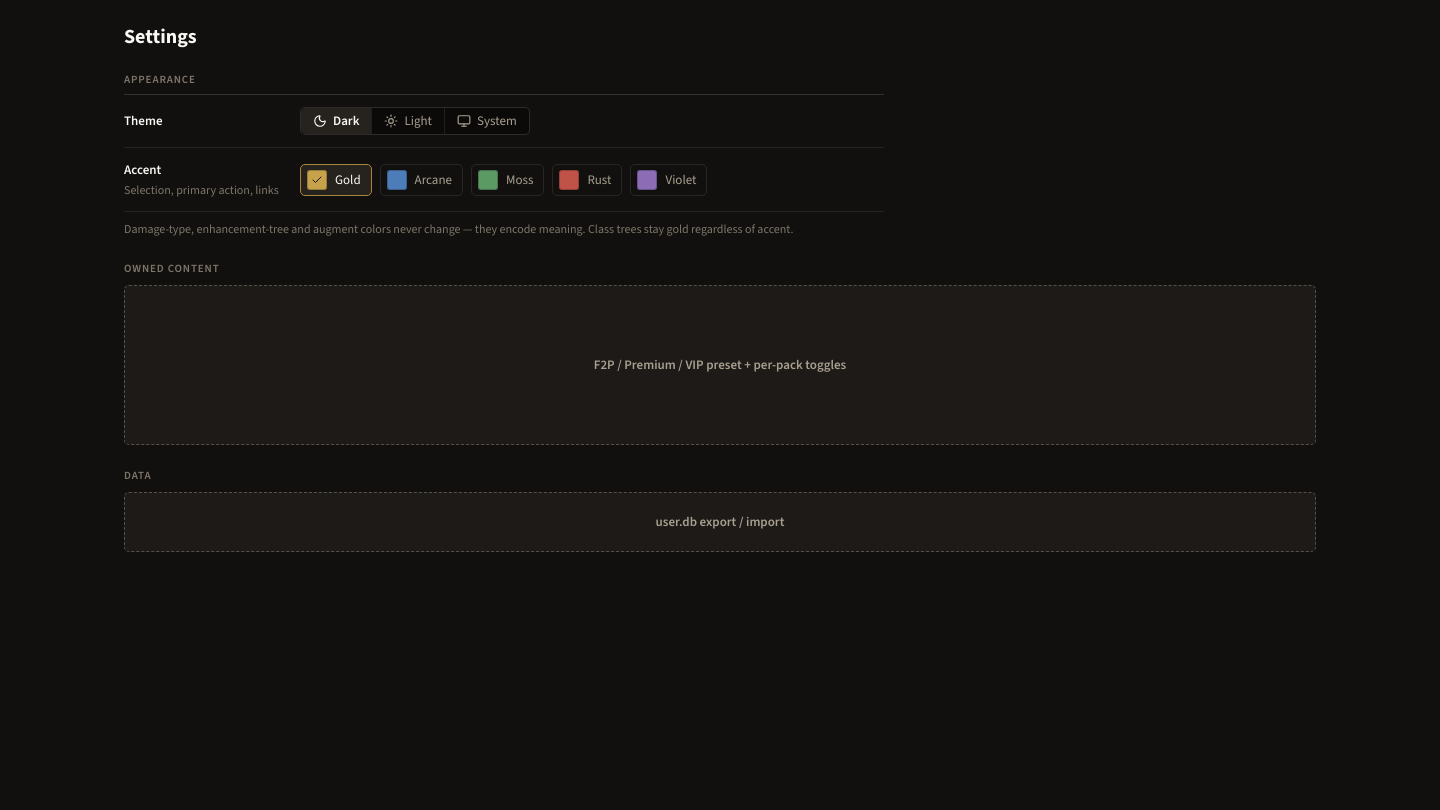
SettingsView appearance › shows the OS sub-line only while System is the theme preference
Expected: the text "Follows your OS setting" is not shown
Click the button "System": (486, 121) [444,108,529,134]
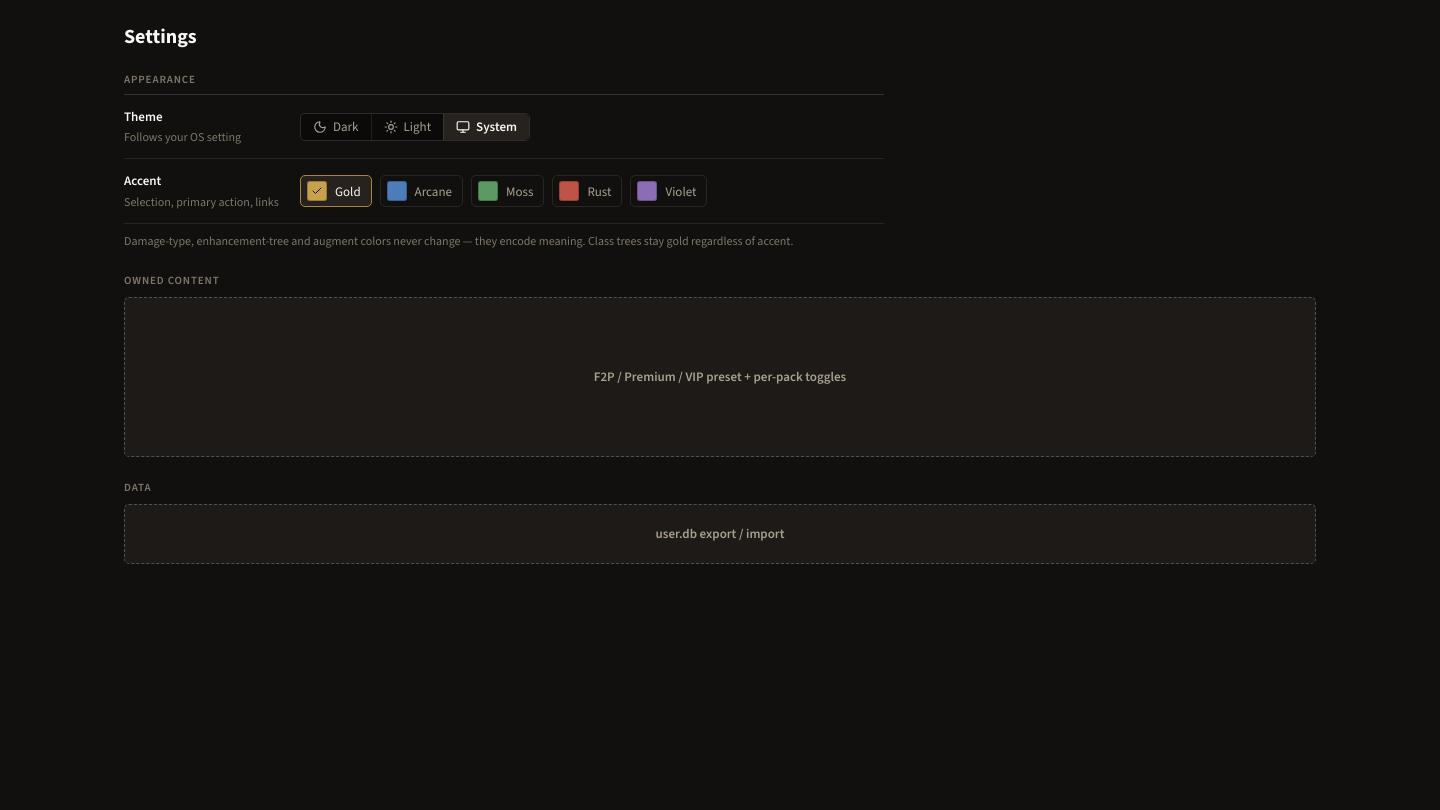
Now the text "Follows your OS setting" is shown, box [124,129,241,145]
Click the button "Light": (407, 127) [370,114,443,140]
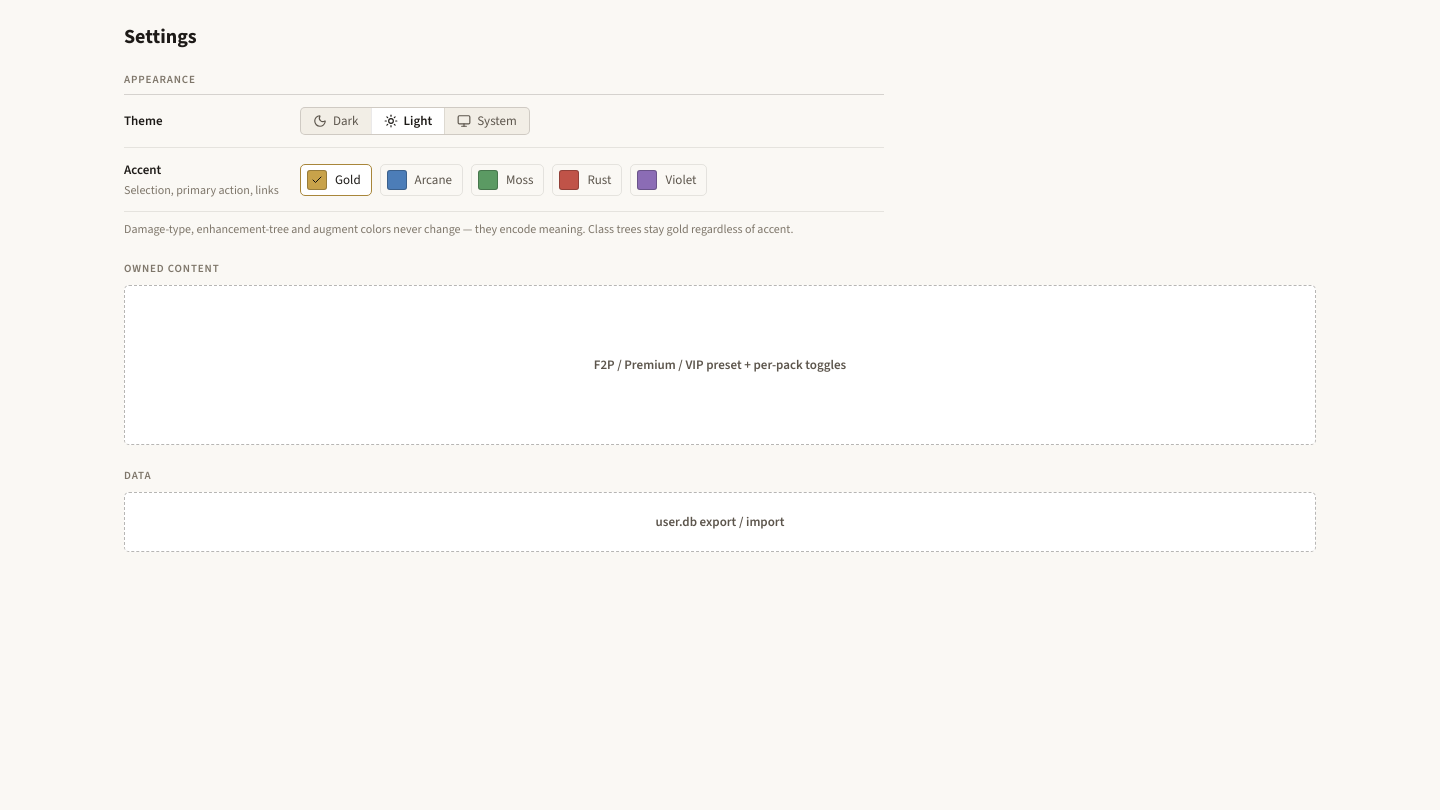
Now the text "Follows your OS setting" is gone
